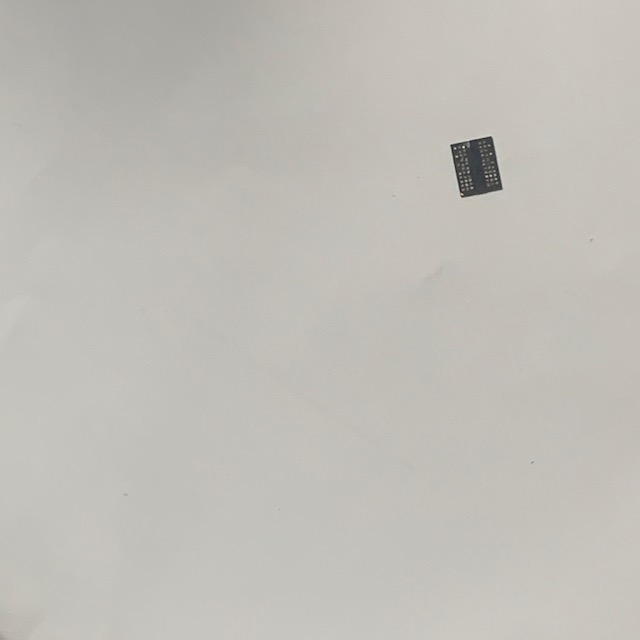IC: (447, 135, 506, 201)
